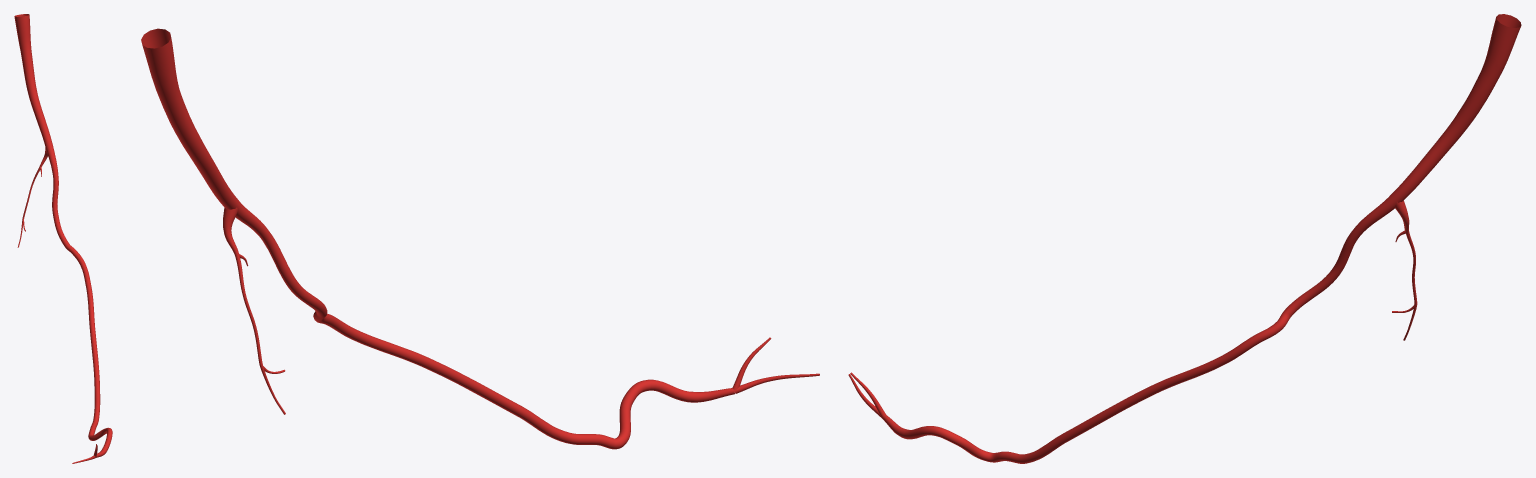
File: circulatorio-inferior-alveolar-artery-l.glb
3 renders of one model, left to right at view 1: azimuth 30°, elevation 25°; view 2: azimuth 150°, elevation 25°; view 3: azimuth 270°, elevation 25°, orthographic. The views are drawn at different scales.
Parts seen in each view (by area): view 1: Inferior alveolar artery.l, Mylohyoid branch of inferior alveolar artery.l; view 2: Inferior alveolar artery.l, Mylohyoid branch of inferior alveolar artery.l, Mental branch of inferior alveolar artery.l; view 3: Inferior alveolar artery.l, Mylohyoid branch of inferior alveolar artery.l.
Part boxes in pixels (bbox=[...]): Inferior alveolar artery.l: bbox=[14, 14, 112, 457]; Mylohyoid branch of inferior alveolar artery.l: bbox=[17, 147, 47, 247]; Inferior alveolar artery.l: bbox=[141, 28, 734, 449]; Mylohyoid branch of inferior alveolar artery.l: bbox=[223, 207, 285, 414]; Mental branch of inferior alveolar artery.l: bbox=[732, 337, 819, 393]; Inferior alveolar artery.l: bbox=[882, 14, 1521, 463]; Mylohyoid branch of inferior alveolar artery.l: bbox=[1392, 200, 1417, 340].
Size of the model in its own units: 0.0307 by 0.0591 by 0.0704.
